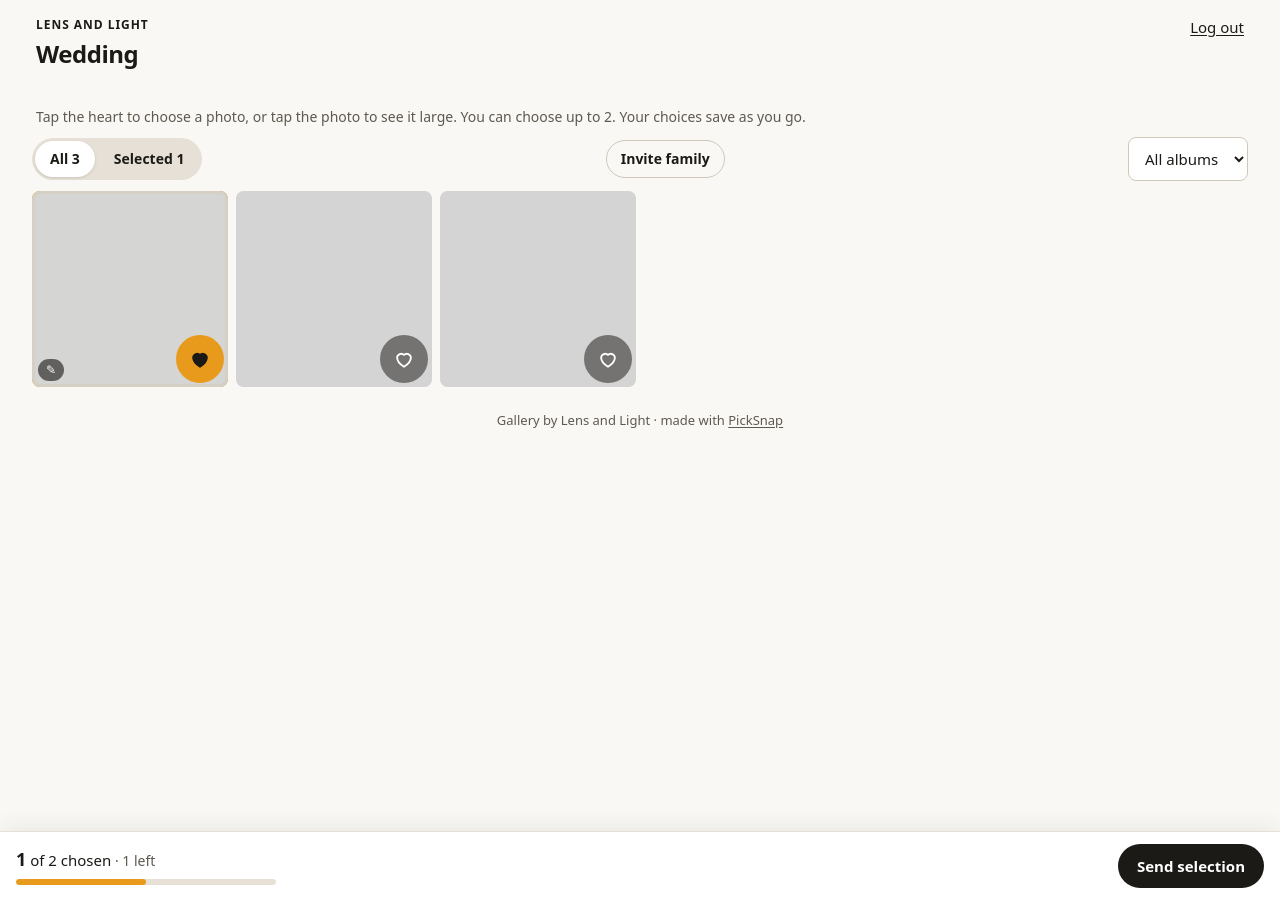
Test: choosing photos › un-choosing removes it
The image size is (1280, 900).
Click the button named "Remove from selection": (200, 359) 176,335 -> 224,383
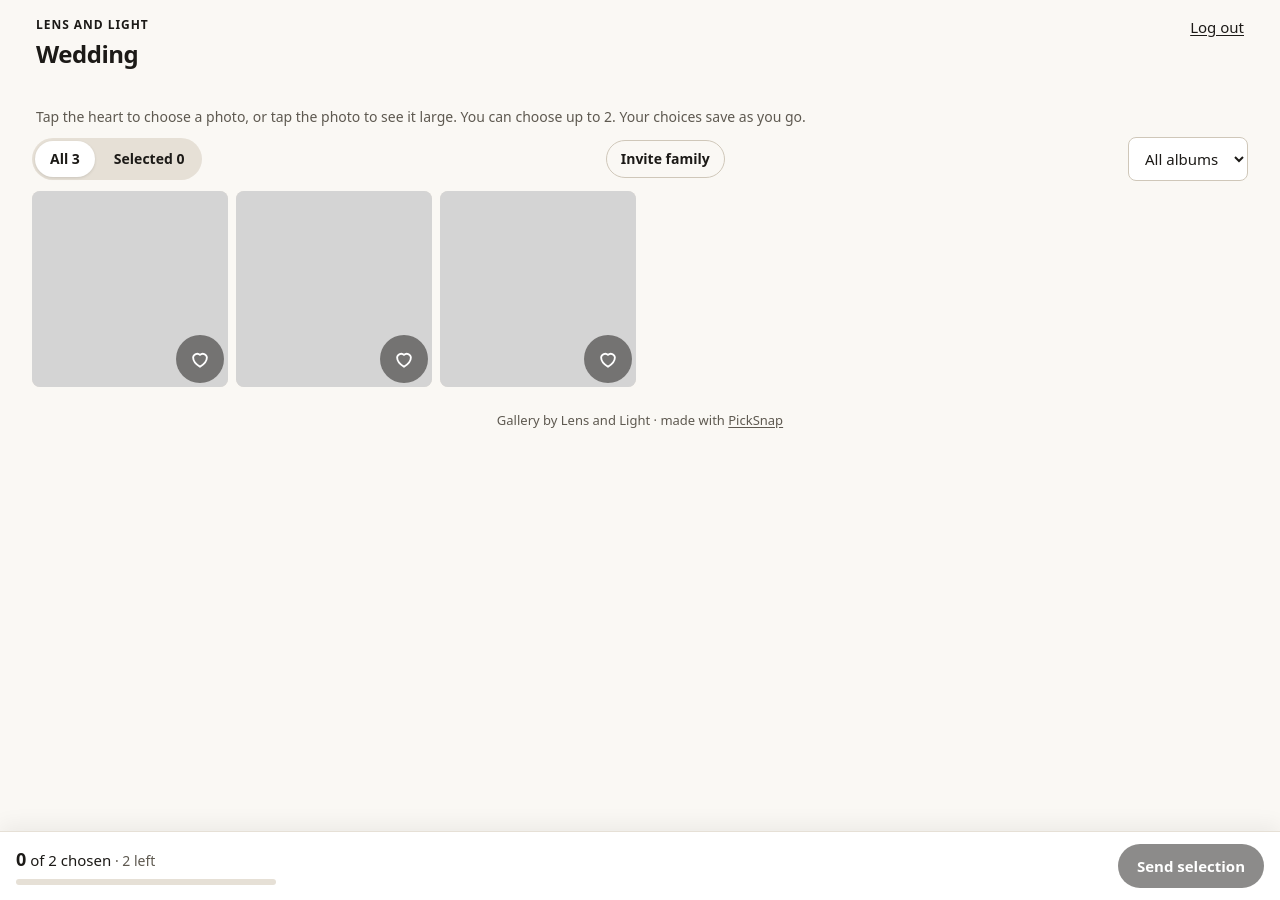
Expected: the element with class "submit-count" shows "0 of 2", 16,847 -> 276,885
